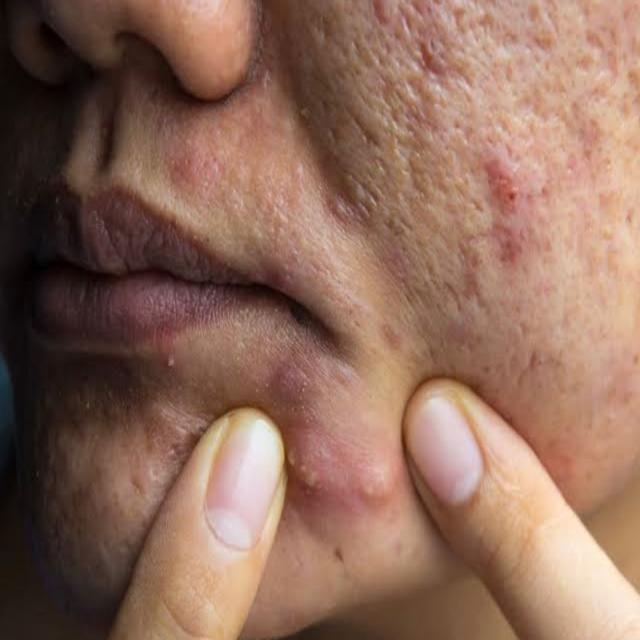nodule: (285, 406, 373, 525)
